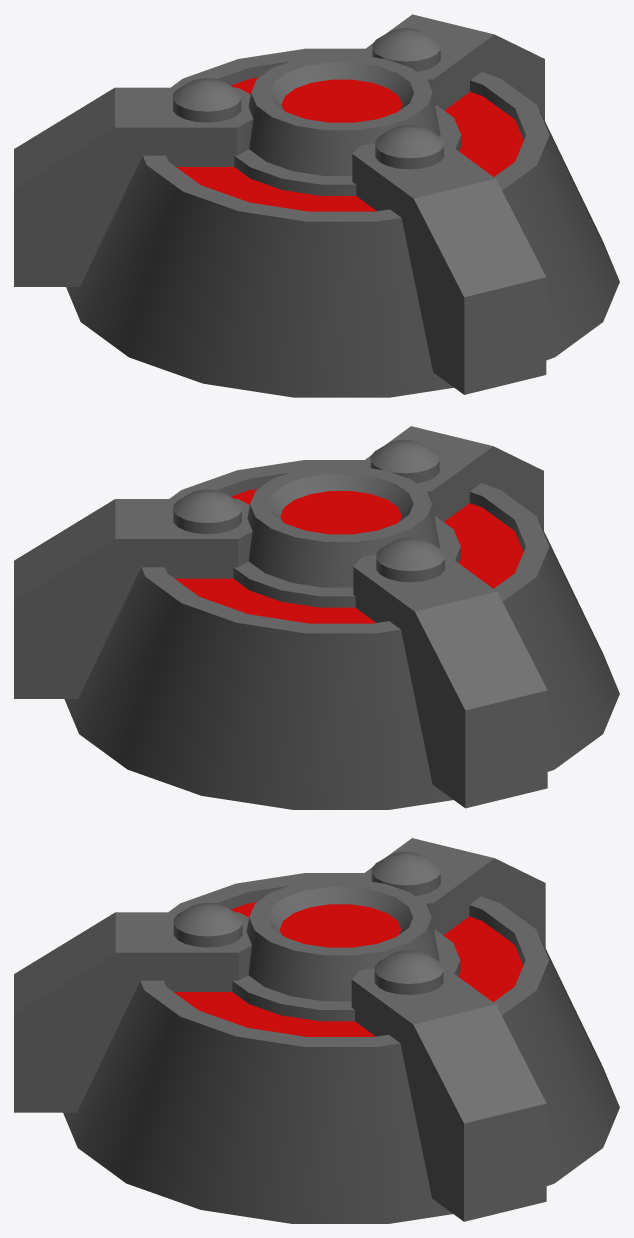
Rendered from SM_Mine.FBX.
3 views of the same model, one above another, from view 1: azimuth 30°, elevation 25°; view 2: azimuth 150°, elevation 25°; view 3: azimuth 270°, elevation 25° (orthographic).
Visible parts, largest first — view 1: Cylinder017; view 2: Cylinder017; view 3: Cylinder017.
Part boxes in pixels (x1,y1,x2,y2): Cylinder017: (14,14,619,397); Cylinder017: (14,426,619,809); Cylinder017: (14,838,619,1223).
Bounding box in the file's own units: 83.41 × 30 × 81.9.
